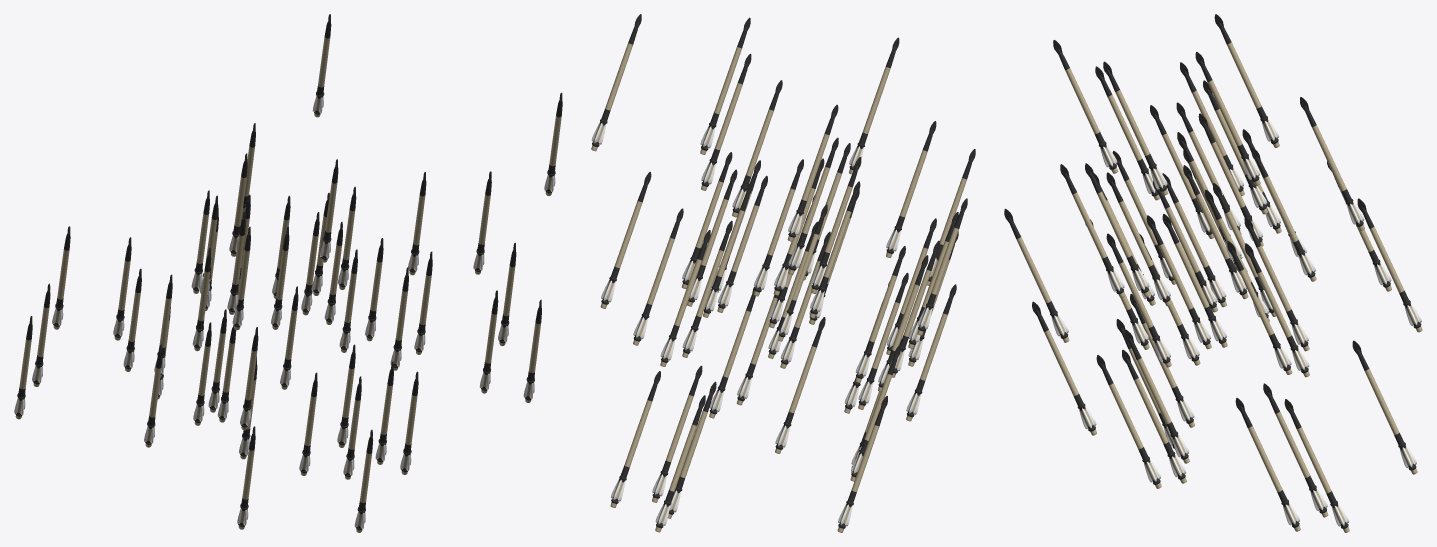
The picture shows the model from 3 angles, left to right: view 1: azimuth 30°, elevation 25°; view 2: azimuth 150°, elevation 25°; view 3: azimuth 270°, elevation 25°; orthographic projection. The views are drawn at different scales.
Parts seen in each view (by area): view 1: D2; view 2: D2; view 3: D2.
Part boxes in pixels (left/top/right/bottom): D2: left=14, top=14, right=562, bottom=532; D2: left=591, top=14, right=975, bottom=532; D2: left=1004, top=14, right=1422, bottom=532.
Size of the model in its own units: 1.13 by 1.3 by 1.01.
